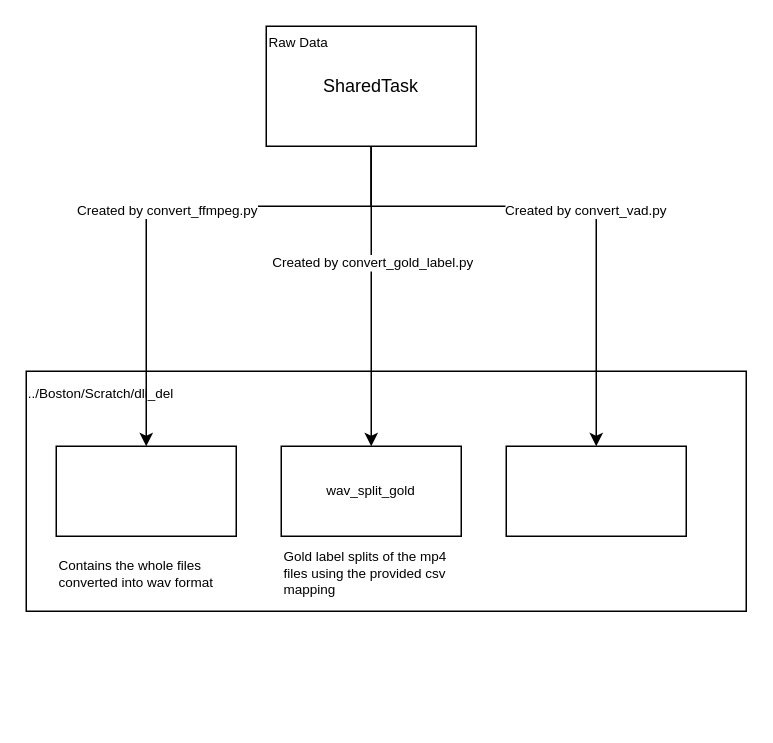
The diagram is 773 pixels wide and 743 high, and some of its shapes have lost their labels. Here are the shapes that lost their labels. From the top down, the centre of each, then its label:
At point 145,490: "wav".
At point 595,490: "wav_split_vad".
